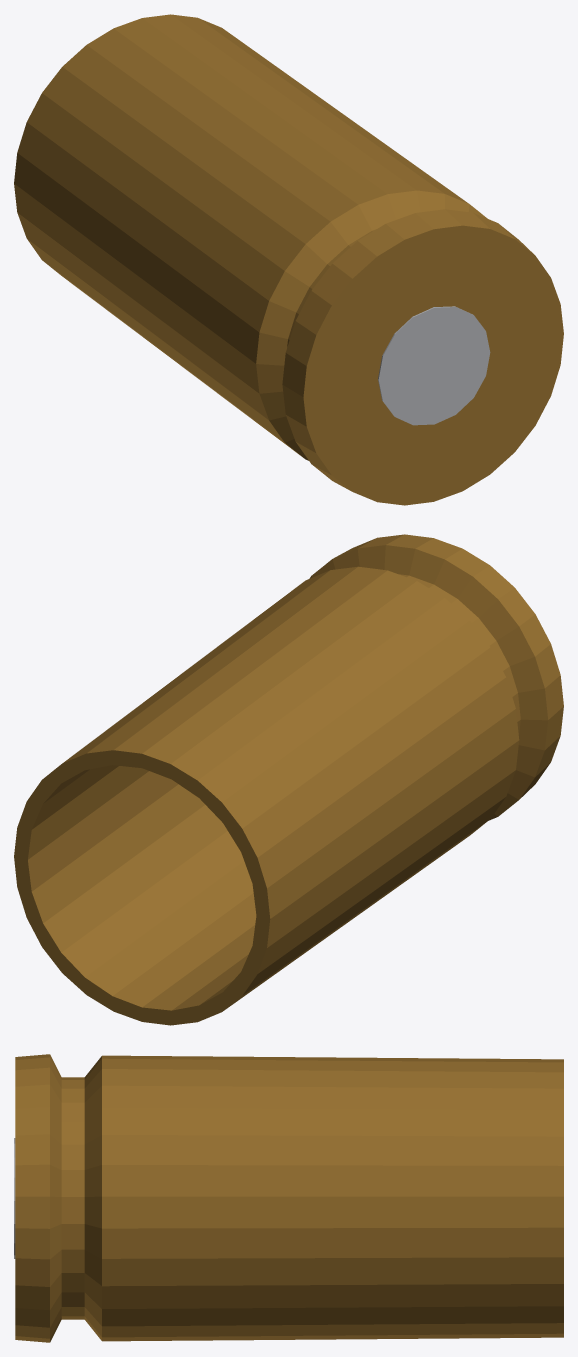
The model's file is estojo_9mm.glb.
The picture shows the model from 3 angles, top to bottom: view 1: azimuth 30°, elevation 25°; view 2: azimuth 150°, elevation 25°; view 3: azimuth 270°, elevation 25°; orthographic projection. The views are drawn at different scales.
Visible parts, largest first — view 1: estojo_9mm_latao, estojo_9mm_aco_inox; view 2: estojo_9mm_latao; view 3: estojo_9mm_latao.
Boxes of the visible parts, box(x1,y1,x2,y2) form: estojo_9mm_latao: box(14, 14, 563, 505); estojo_9mm_aco_inox: box(378, 306, 490, 425); estojo_9mm_latao: box(14, 534, 563, 1025); estojo_9mm_latao: box(15, 1054, 563, 1342).
Size of the model in its own units: 0.01 by 0.01 by 0.019.
